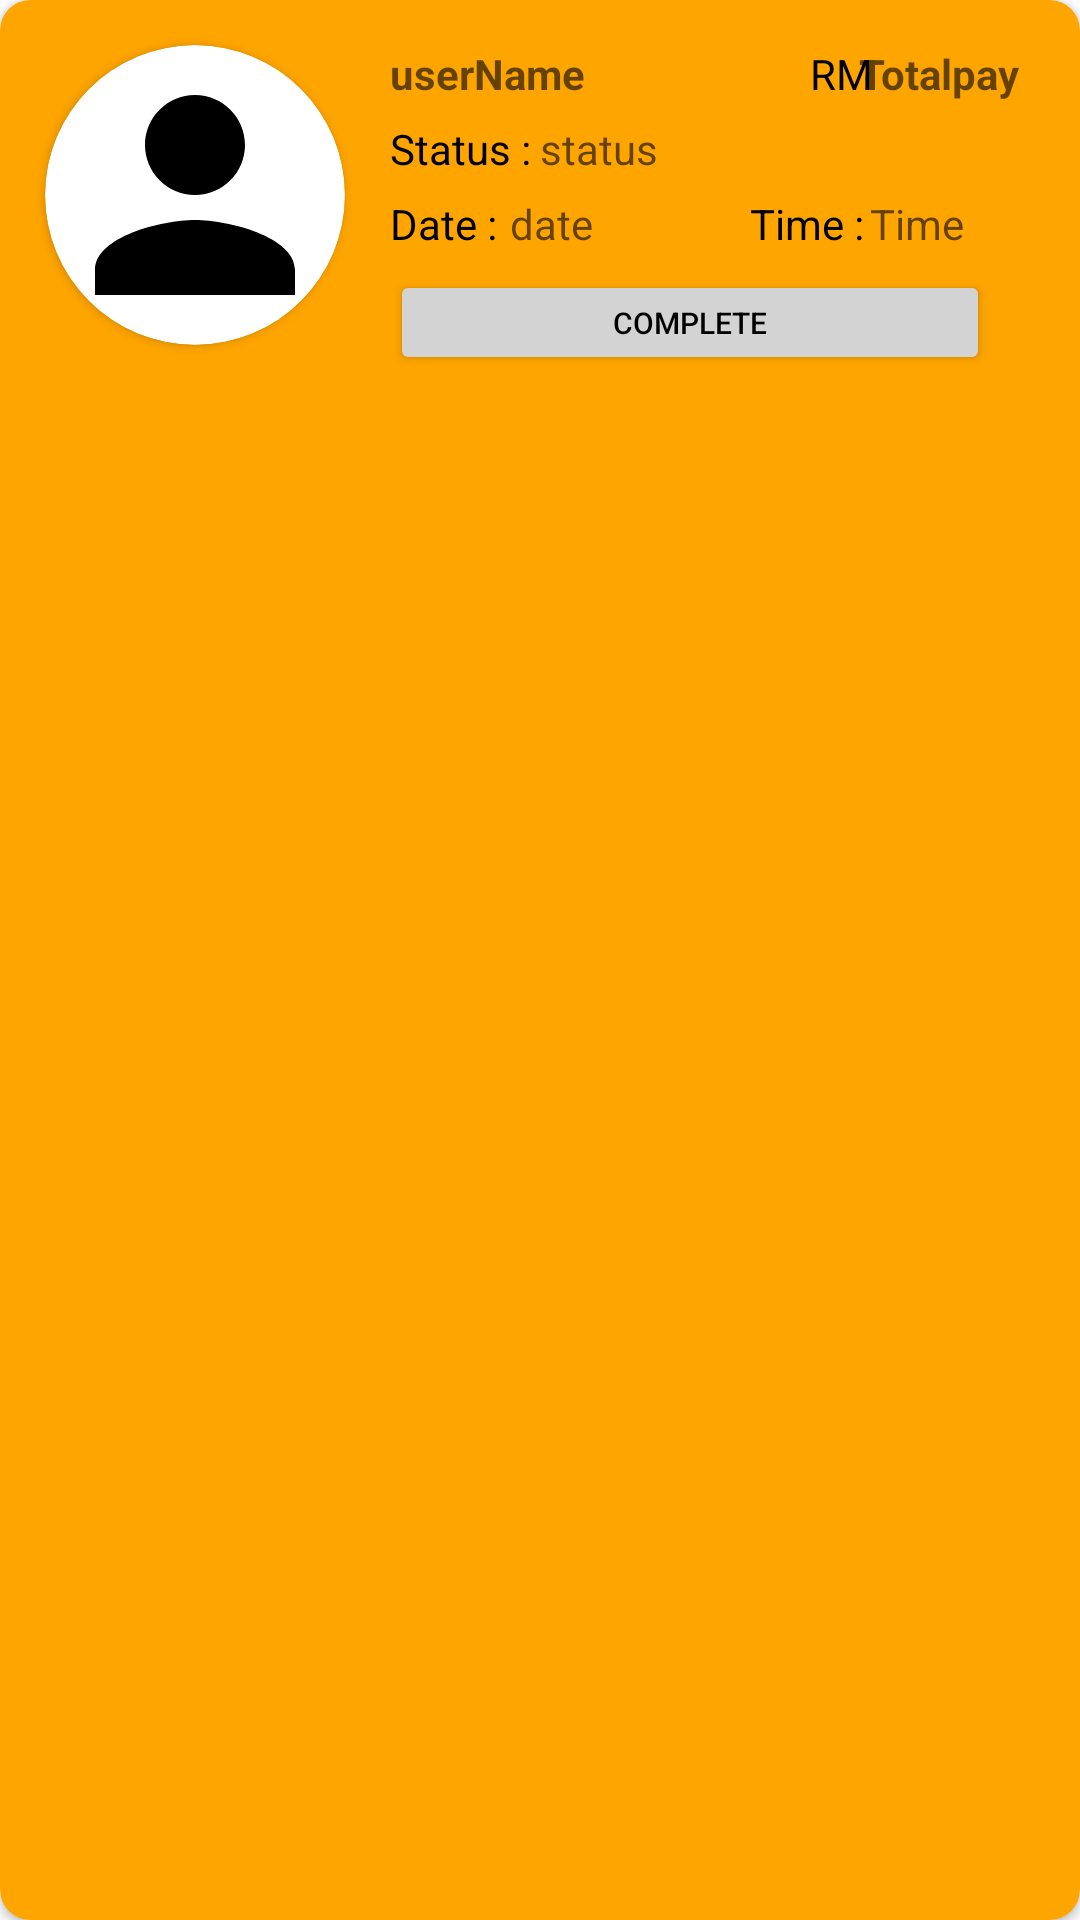

Icon click points for this 1080w x 1920h phone screenshot, format [x,y]:
usrnameblack: [195,195]
